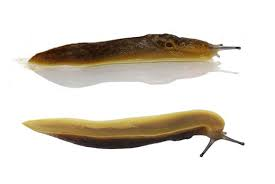slug: (26, 29, 239, 73), (24, 116, 243, 155)
